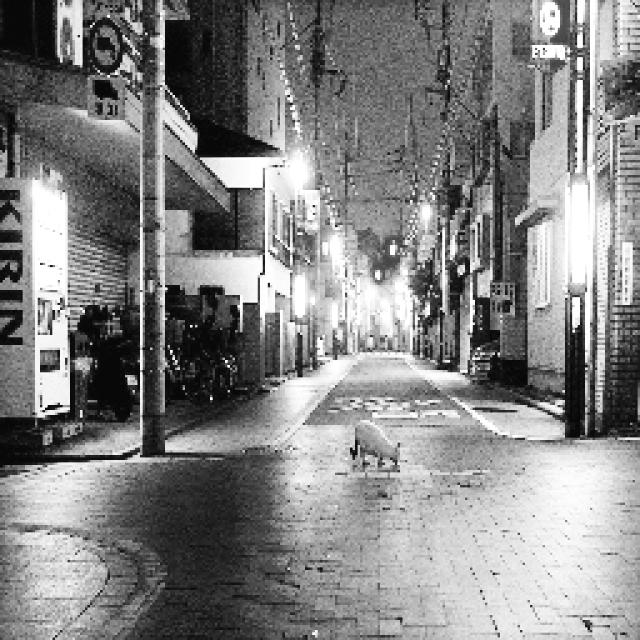cat: (336, 404, 411, 476)
